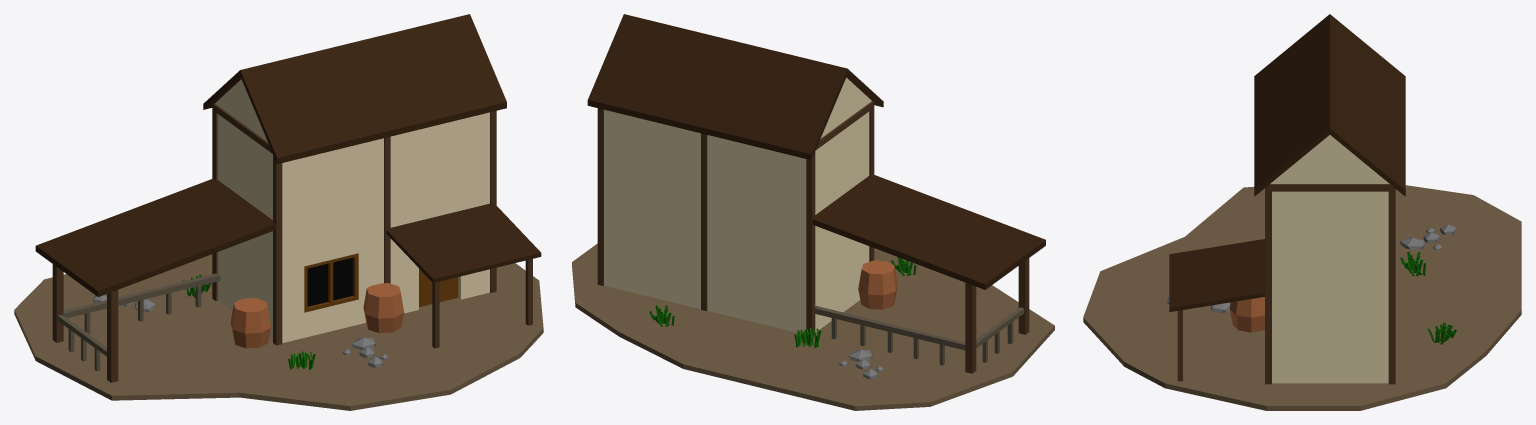
File: StableFinal4.fbx
The picture shows the model from 3 angles, left to right: view 1: azimuth 30°, elevation 25°; view 2: azimuth 150°, elevation 25°; view 3: azimuth 270°, elevation 25°; orthographic projection. The views are drawn at different scales.
Visible parts, largest first — view 1: Cube.303; view 2: Cube.303; view 3: Cube.303.
Part boxes in pixels (x1,y1,x2,y2): Cube.303: [14, 14, 543, 410]; Cube.303: [572, 14, 1054, 410]; Cube.303: [1083, 14, 1521, 410].
Bounding box in the file's own units: 52.59 × 29.08 × 42.97.
